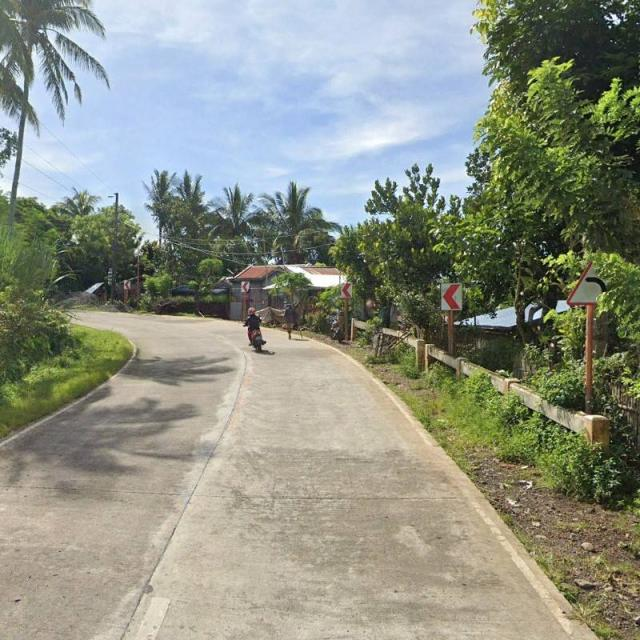warn_left_curve: (566, 248, 619, 305)
